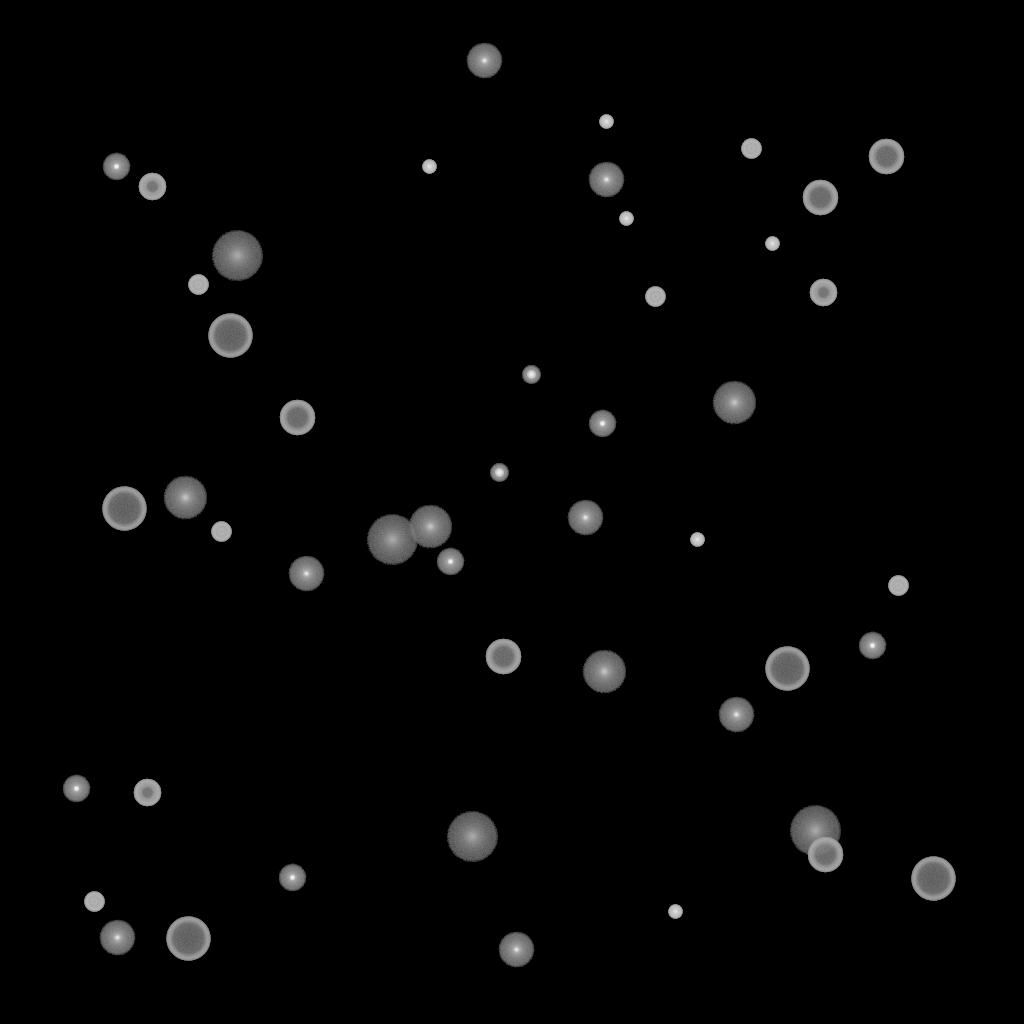depth:-10: (278, 864, 306, 892), (102, 153, 130, 181), (62, 775, 90, 803), (588, 410, 616, 438), (858, 632, 886, 660), (436, 548, 464, 576)
depth:-20: (490, 464, 508, 482), (522, 366, 540, 384)
depth:-30: (619, 212, 633, 226), (599, 115, 613, 129), (690, 533, 704, 547), (765, 237, 779, 251), (422, 160, 436, 174), (668, 905, 682, 919)
depth:-40: (84, 892, 104, 912), (888, 576, 908, 596), (741, 139, 761, 159), (188, 275, 208, 295), (645, 287, 665, 307), (211, 522, 231, 542)
depth:-50: (138, 173, 166, 201), (133, 779, 161, 807), (809, 279, 837, 307)
depth:-60: (802, 180, 838, 216), (485, 639, 521, 675), (807, 837, 843, 873), (868, 139, 904, 175), (279, 400, 315, 436)
depth:-70: (166, 917, 210, 961), (765, 647, 809, 691), (102, 487, 146, 531), (911, 857, 955, 901), (208, 314, 252, 358)
depth:0: (466, 43, 502, 79), (718, 697, 754, 733), (588, 162, 624, 198), (567, 500, 603, 536), (99, 920, 135, 956), (498, 932, 534, 968), (288, 556, 324, 592)
depth:10: (712, 381, 756, 425), (163, 476, 207, 520), (582, 650, 626, 694), (408, 505, 452, 549)
depth:20: (446, 812, 498, 862), (211, 231, 263, 281), (789, 806, 841, 856), (366, 515, 418, 565)
